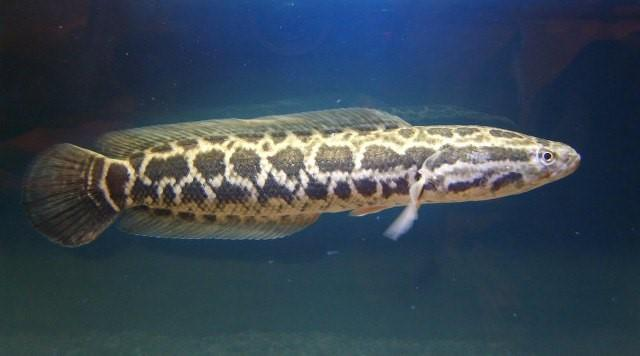Snakehead: (6, 108, 578, 247)
